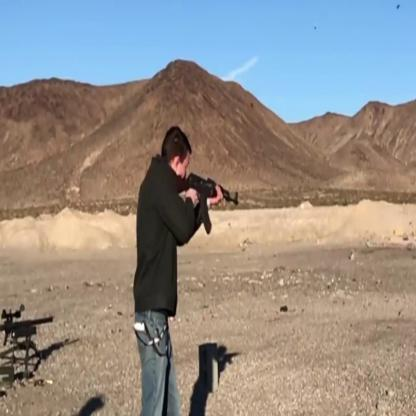long weapon: (168, 165, 246, 235), (2, 302, 53, 364)
